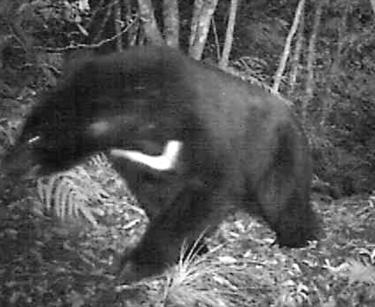bear: (11, 44, 331, 273)
